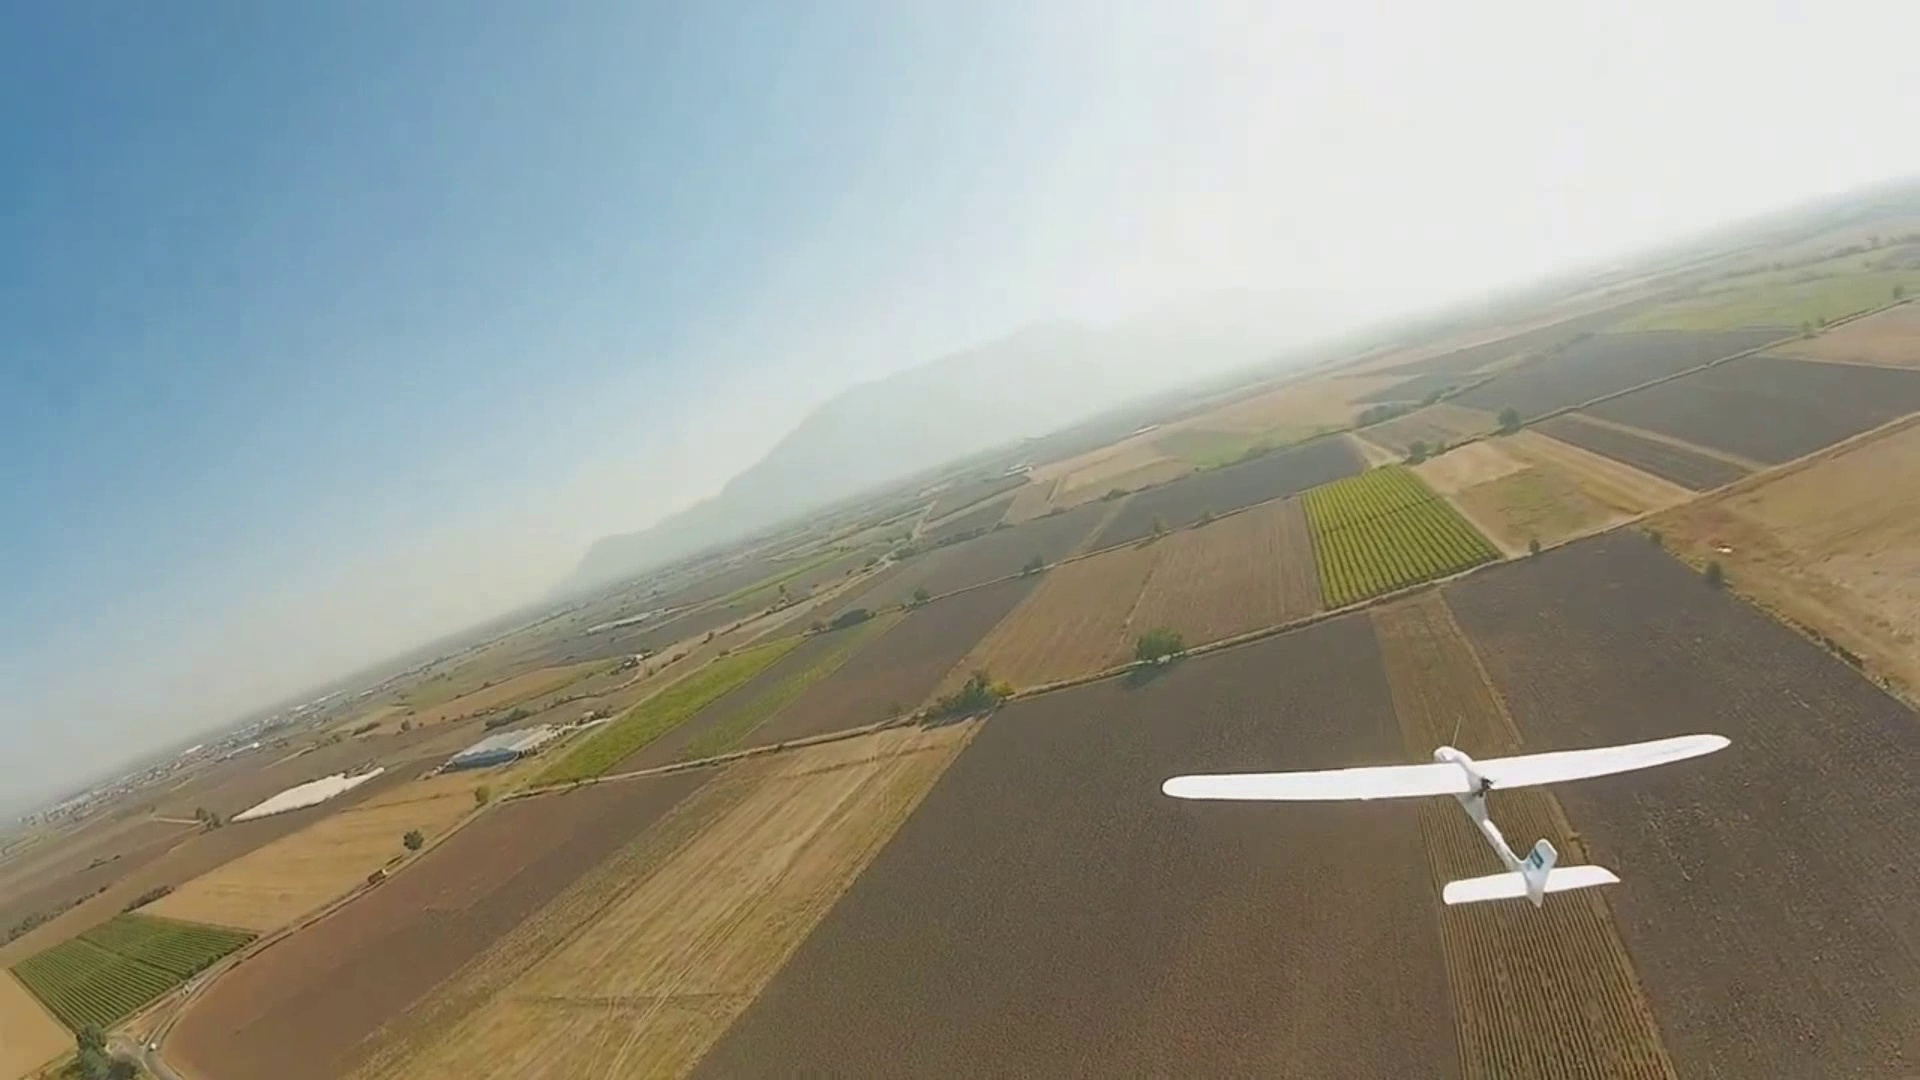airplane: (1161, 730, 1732, 899)
